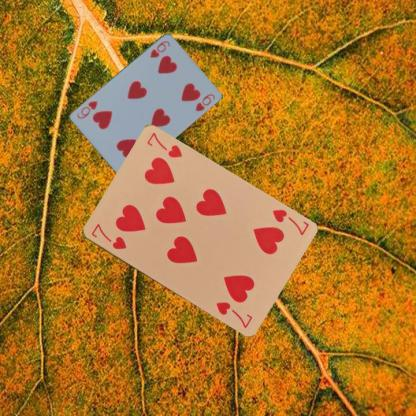6h: (147, 37, 172, 59)
7h: (269, 206, 310, 237), (88, 221, 127, 250)
